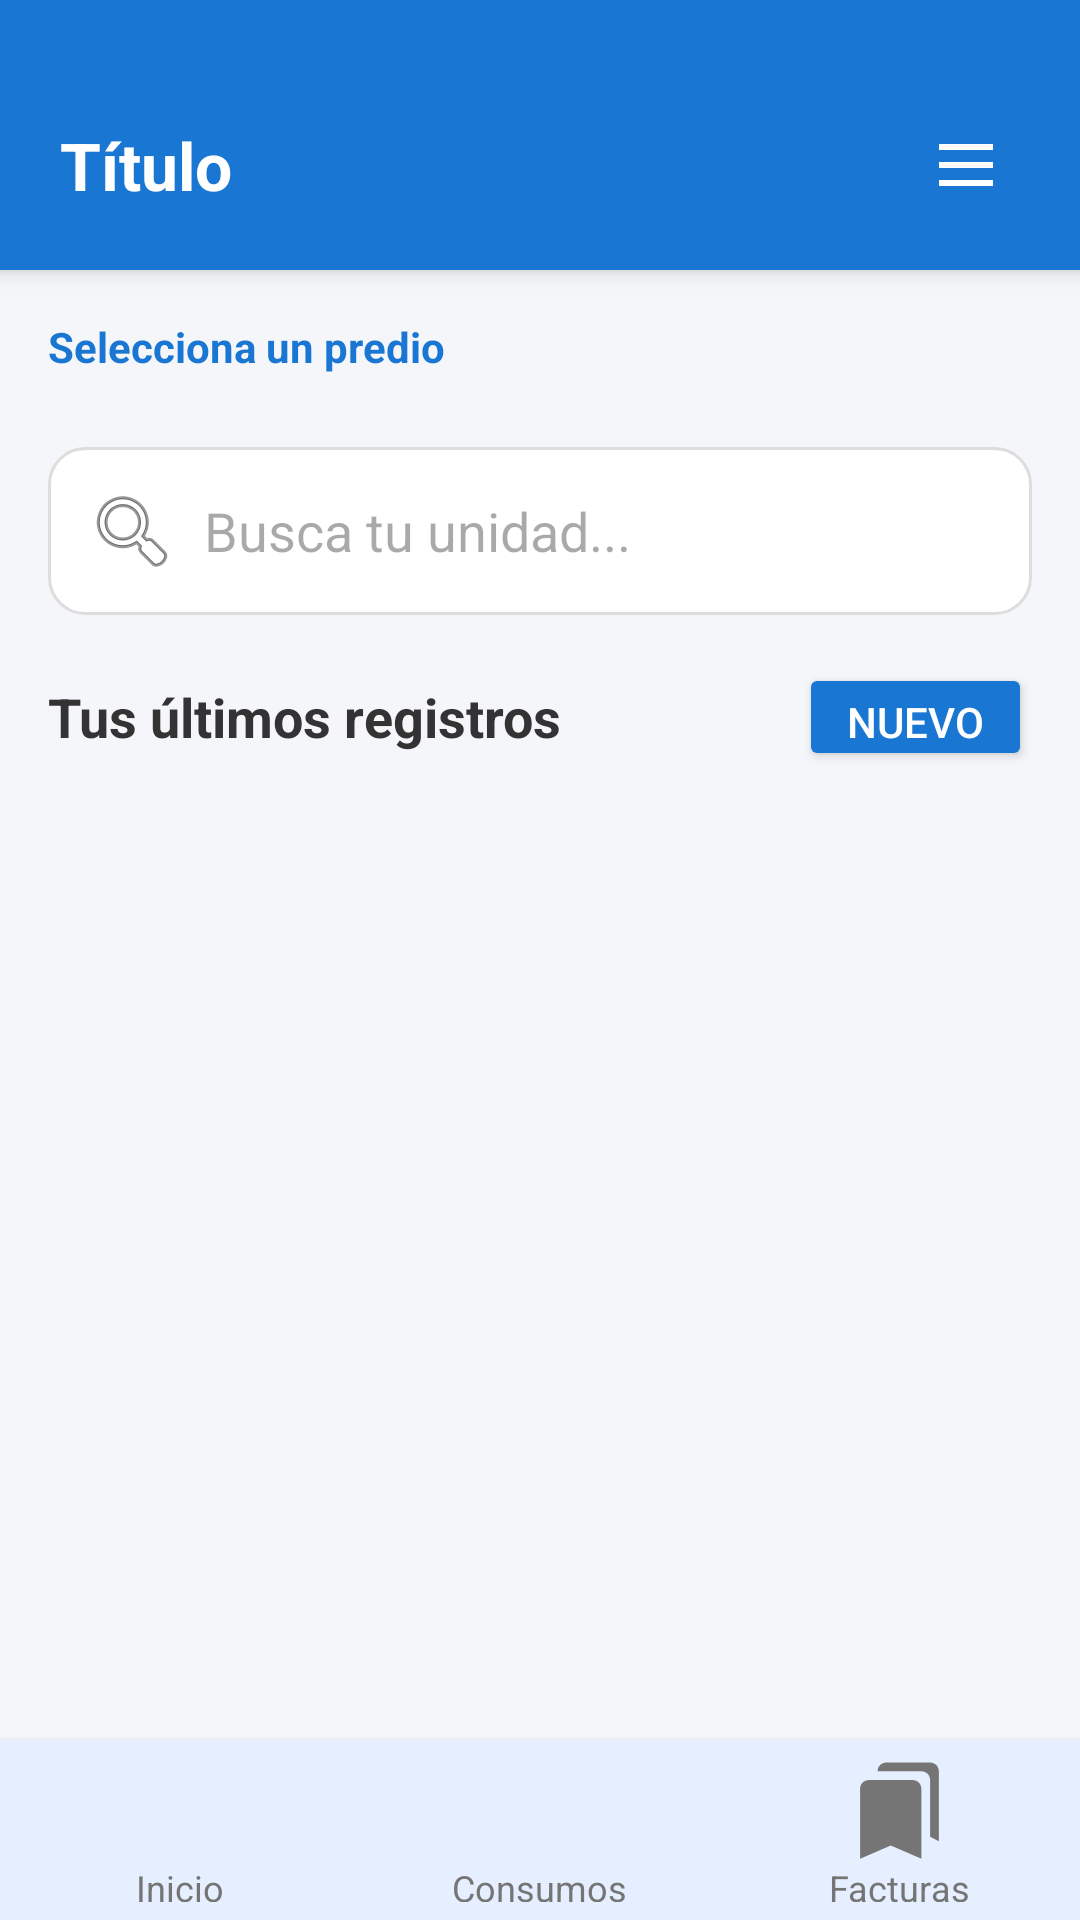

Screen size 1080 × 1920. Icon name, then its center in pixels as (x=x, y=y):
Menú principal: (x=966, y=165)
